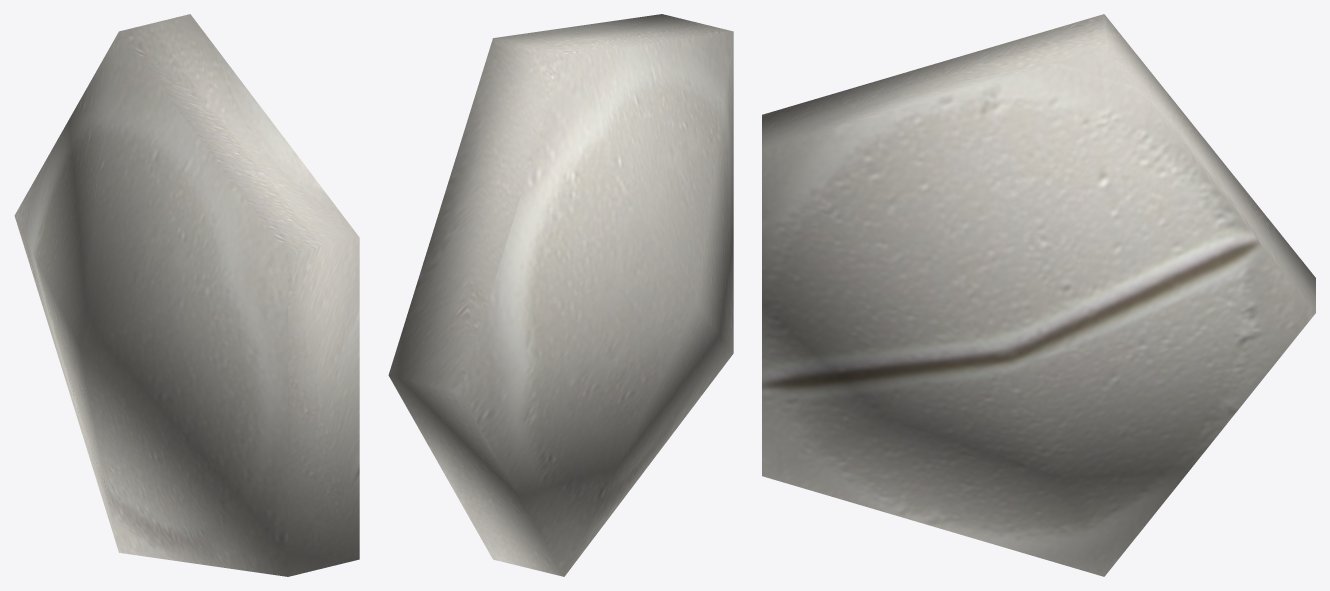
The model's file is Pill_Rounded.fbx.
The picture shows the model from 3 angles, left to right: view 1: azimuth 30°, elevation 25°; view 2: azimuth 150°, elevation 25°; view 3: azimuth 270°, elevation 25°; orthographic projection.
Parts seen in each view (by area): view 1: PillRounded; view 2: PillRounded; view 3: PillRounded.
Part boxes in pixels (bbox=[...]): PillRounded: bbox=[14, 14, 359, 576]; PillRounded: bbox=[388, 14, 733, 576]; PillRounded: bbox=[762, 14, 1315, 576].
Bounding box in the file's own units: 20.27 × 41.61 × 39.57.
